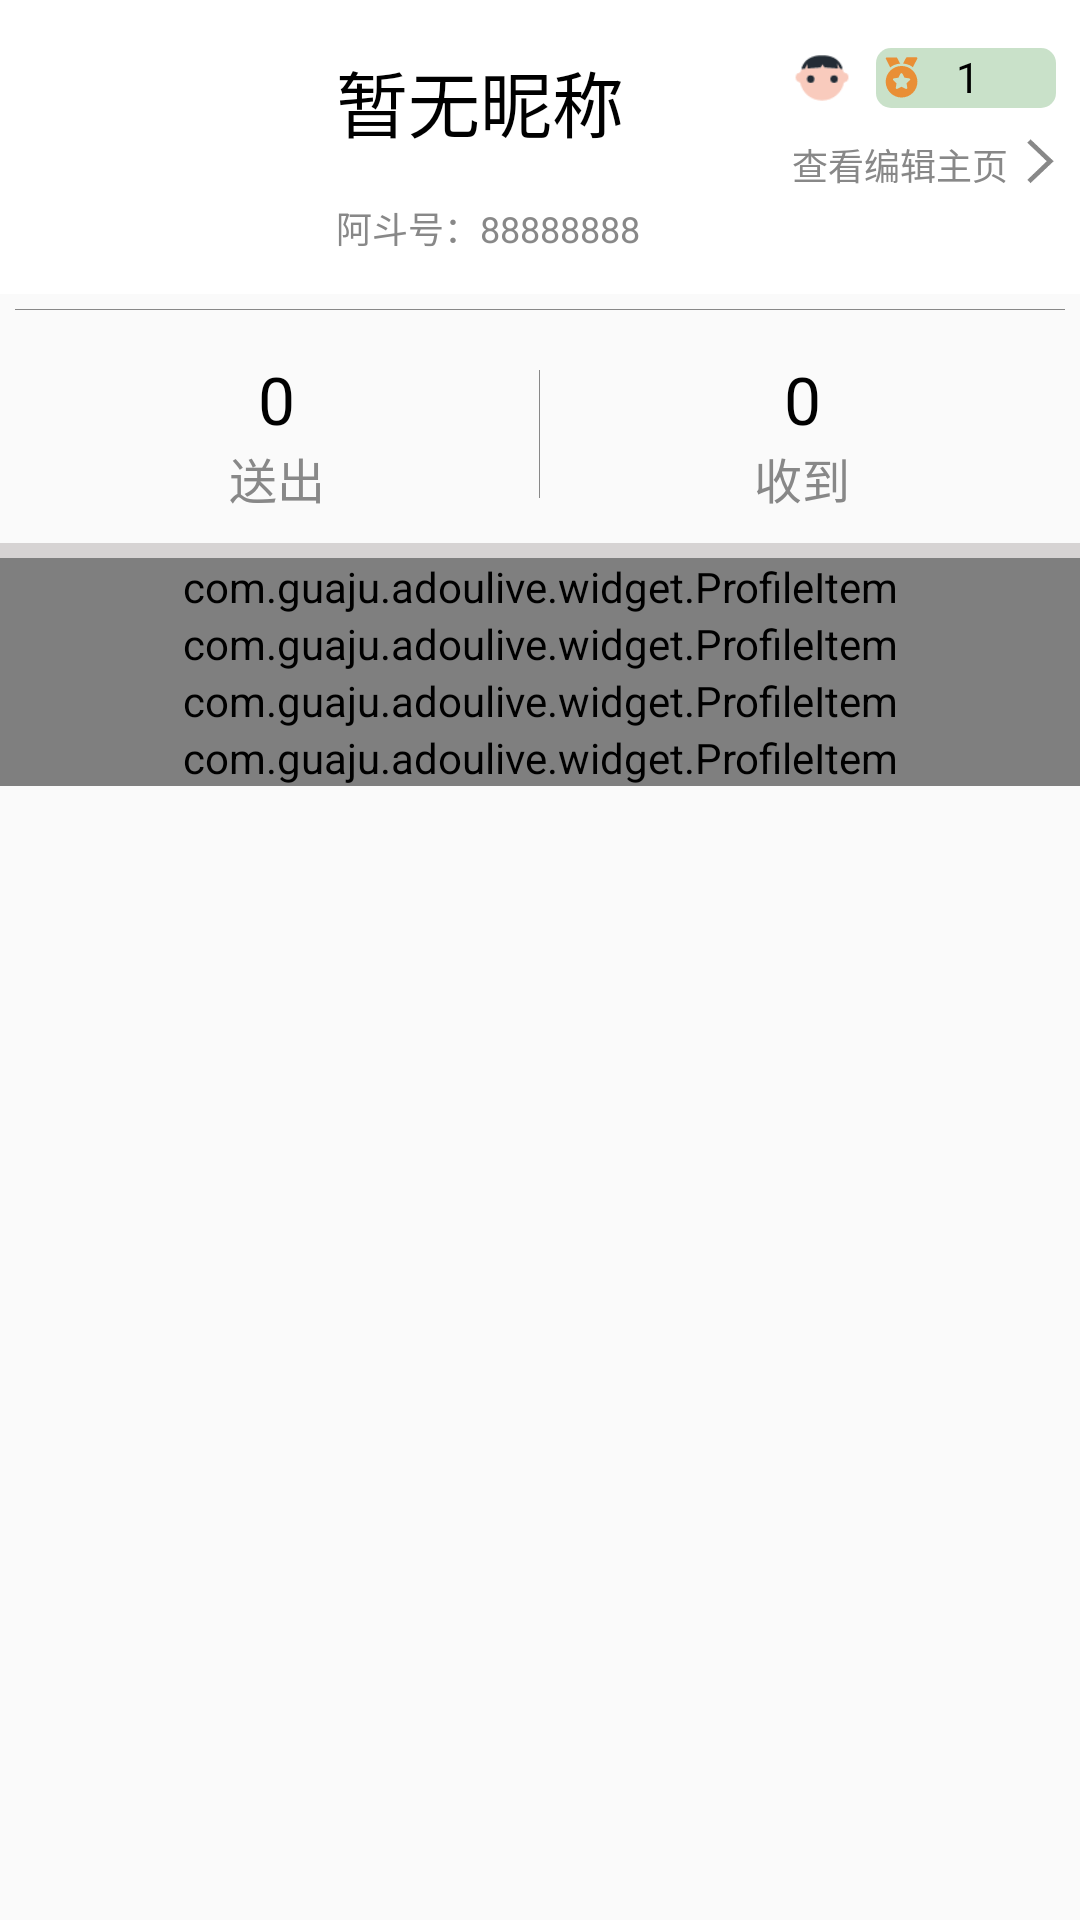

Screen size 1080×1920. Icon name, then its center in pixels as point (x, y):
male: point (822, 78)
right arraw: point (1040, 161)
